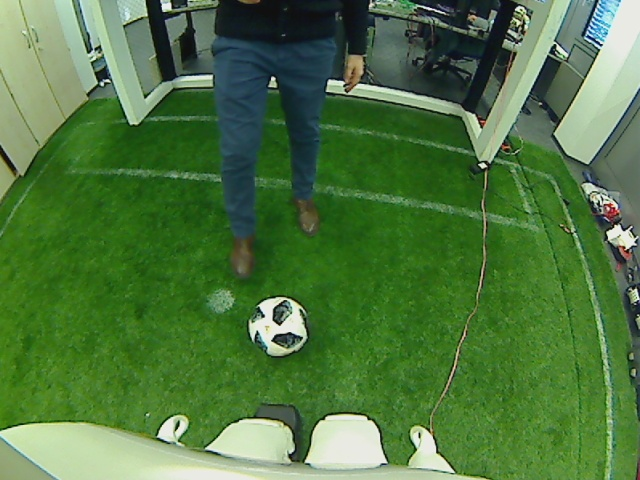ball: (245, 293, 309, 358)
